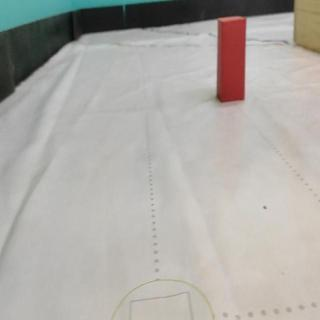redbox: (215, 14, 247, 102)
